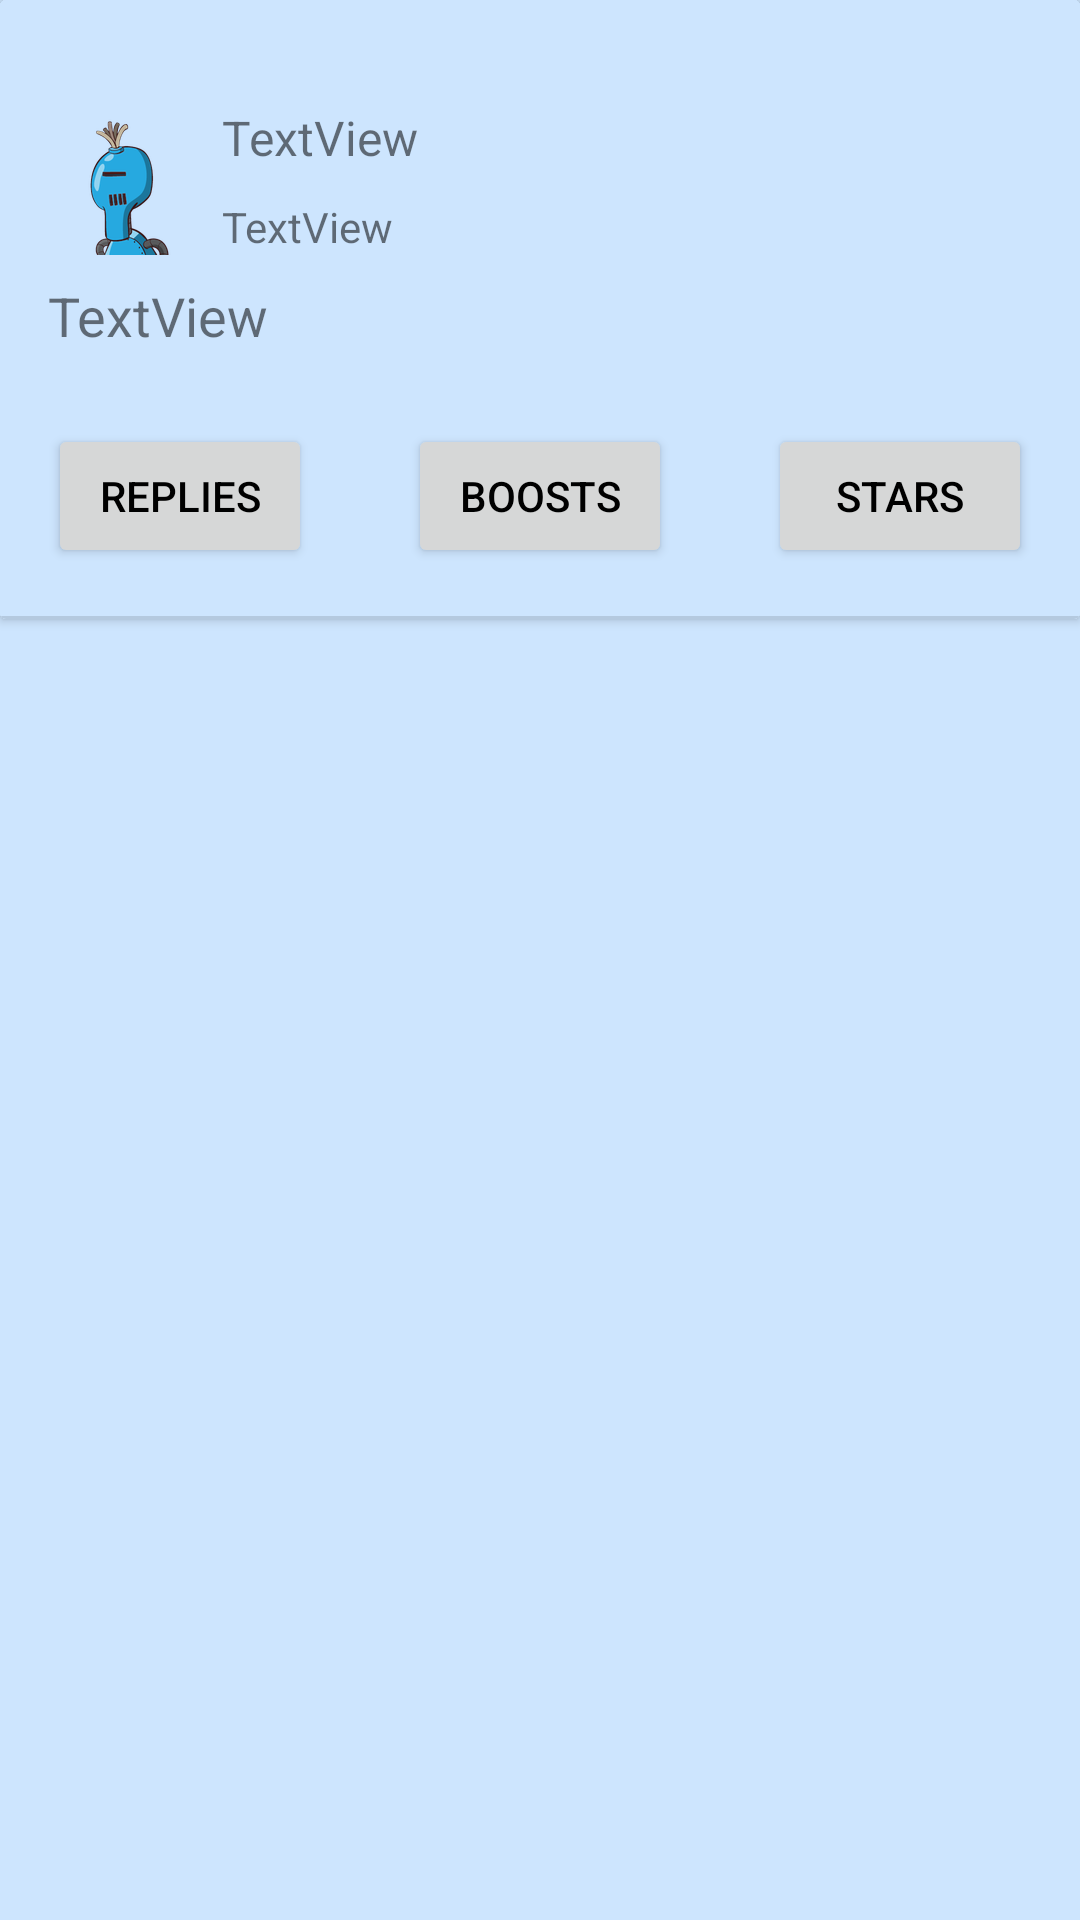

Named icons in this screenshot (1080×1920) and their bounding boxes, (x1, y1, x2, y2):
profile picture: (90, 121, 169, 255)
